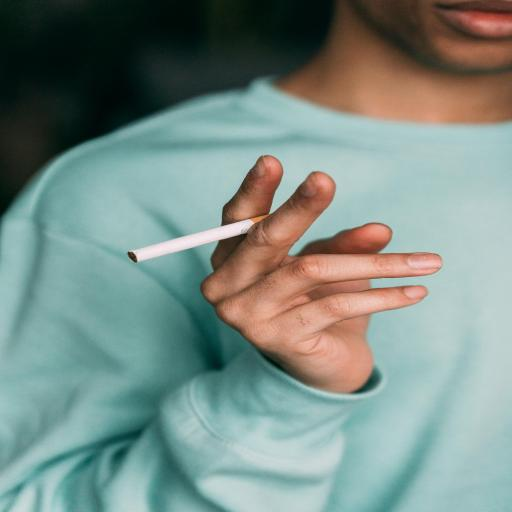terdeteksi pegang rokok: (126, 146, 409, 382)
